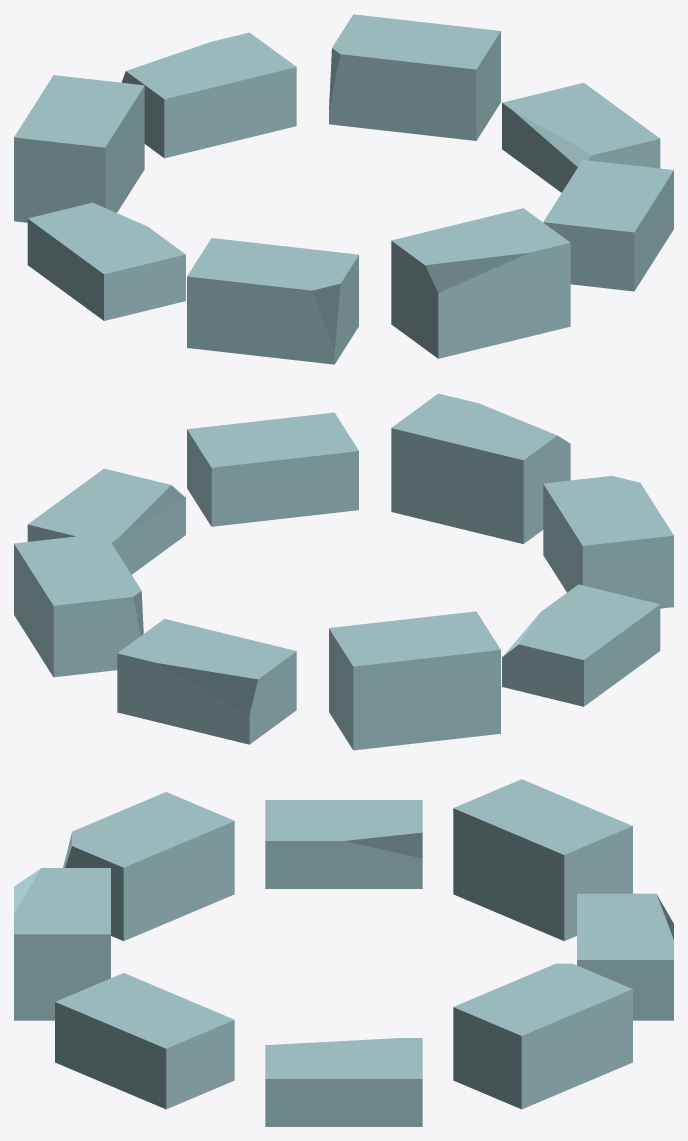
Rendered from campfireStones_blocks.obj.
3 views of the same model, one above another, from view 1: azimuth 30°, elevation 25°; view 2: azimuth 150°, elevation 25°; view 3: azimuth 270°, elevation 25° (orthographic). The views are drawn at different scales.
Visible parts, largest first — view 1: campfireStones_blocks; view 2: campfireStones_blocks; view 3: campfireStones_blocks.
Part boxes in pixels (x1,y1,x2,y2): campfireStones_blocks: [14, 14, 673, 364]; campfireStones_blocks: [14, 393, 673, 750]; campfireStones_blocks: [14, 779, 673, 1126].
Bounding box in the file's own units: 4.69 × 0.676 × 4.69.
